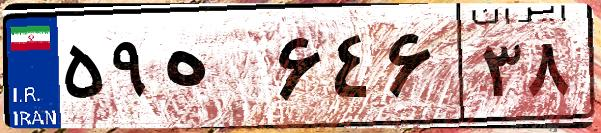3: (475, 38, 525, 113)
4: (330, 28, 385, 110)
5: (57, 26, 110, 100)
6: (270, 28, 330, 110), (385, 28, 445, 110)
8: (525, 38, 570, 115)
9: (110, 28, 158, 98)
ه: (158, 20, 270, 120)
